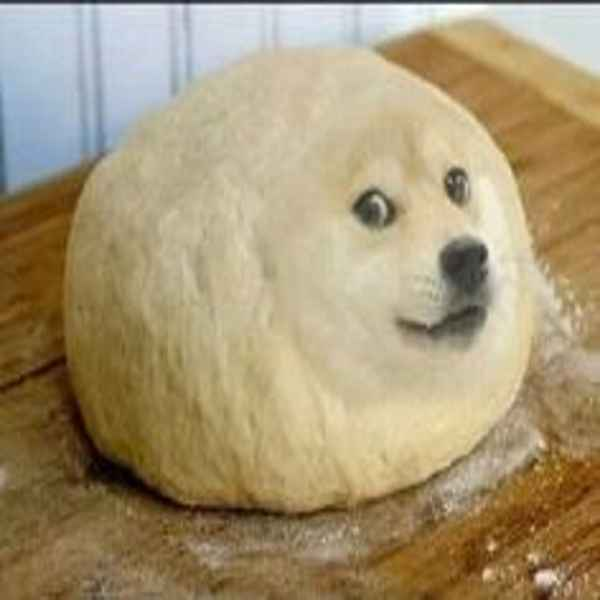doge: (297, 113, 517, 383)
